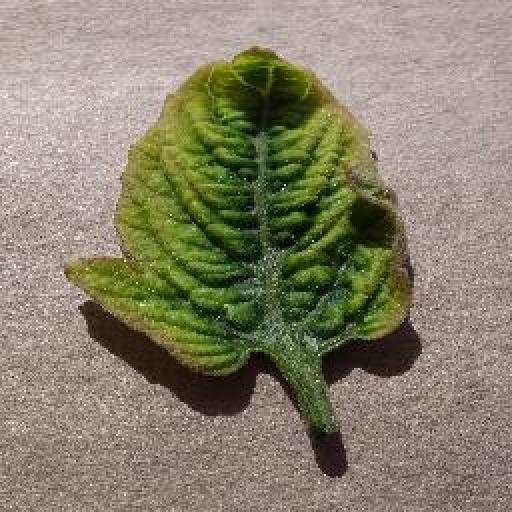disease_tomato: (64, 48, 418, 379)
